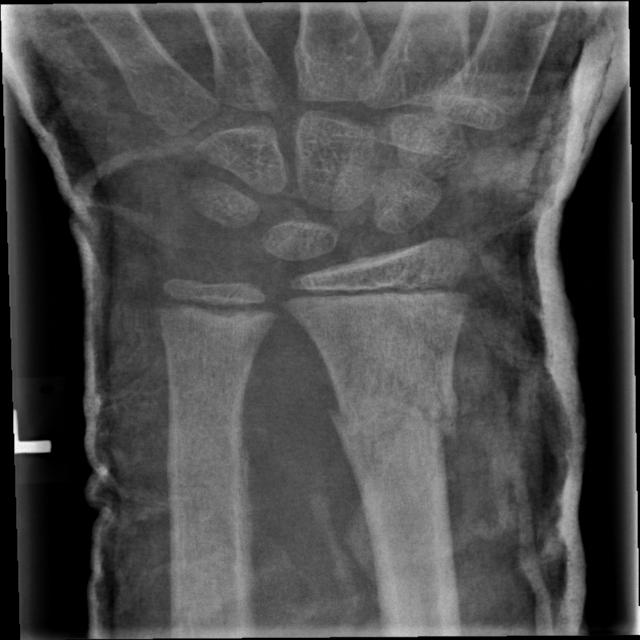radius fracture: (306, 360, 490, 511)
